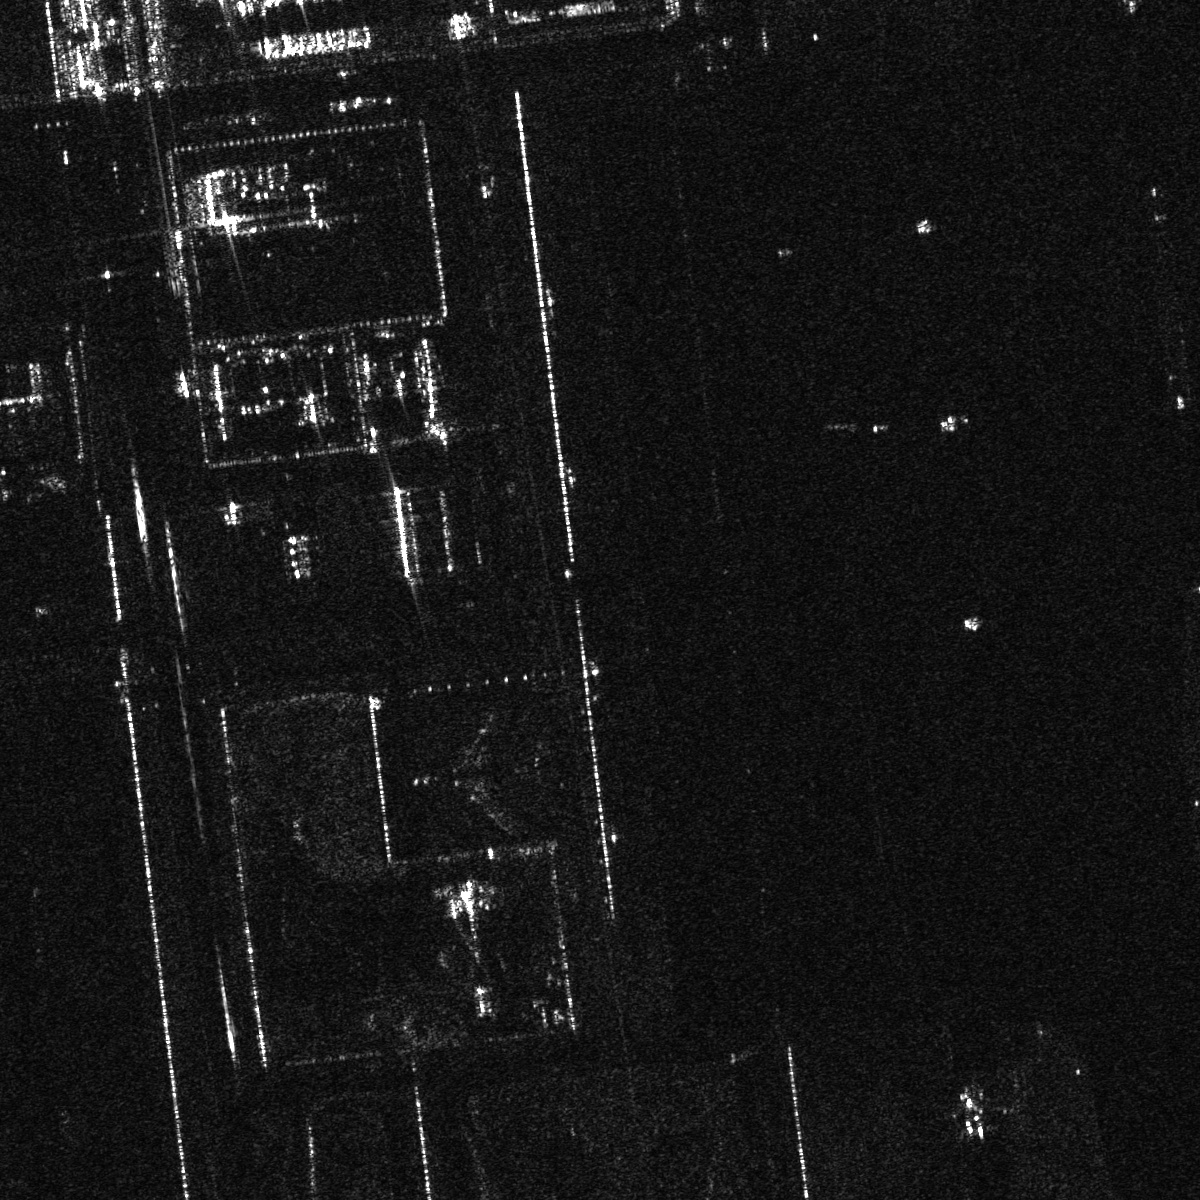A220: (929, 1075, 1008, 1149)
other: (410, 691, 590, 845)
